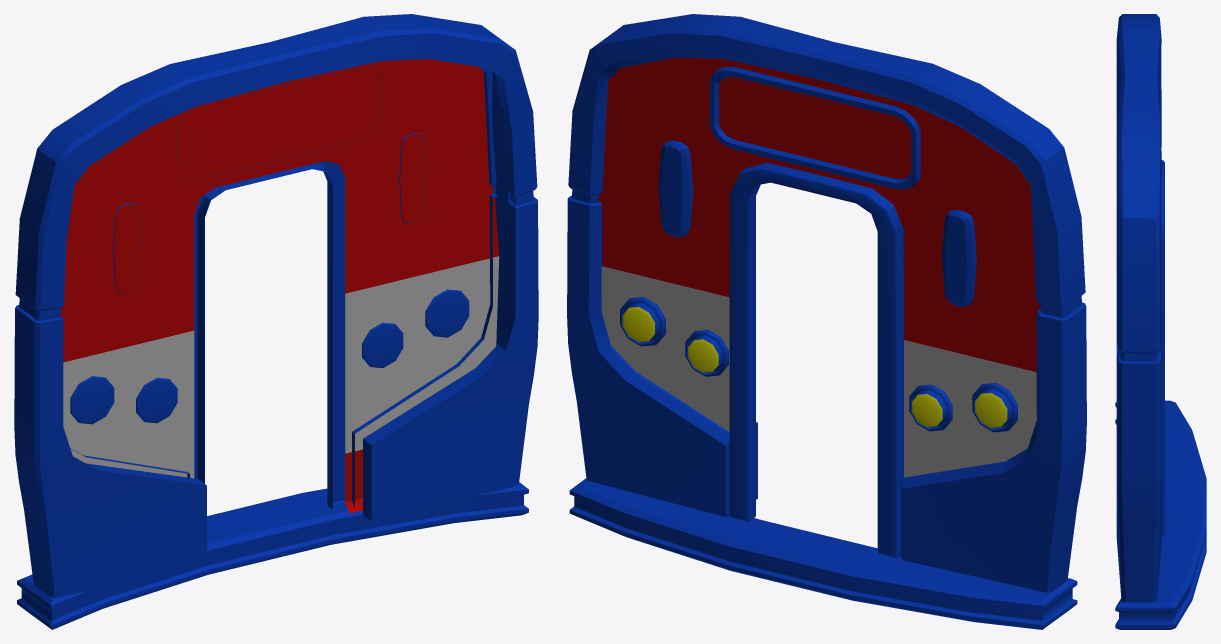
Rendered from Asset_metro_devant.fbx.
3 views of the same model, side by side, from view 1: azimuth 30°, elevation 25°; view 2: azimuth 150°, elevation 25°; view 3: azimuth 270°, elevation 25° (orthographic). The views are drawn at different scales.
Parts seen in each view (by area): view 1: Asset_devant; view 2: Asset_devant; view 3: Asset_devant.
Part boxes in pixels (left/top/right/bottom): Asset_devant: left=14, top=14, right=538, bottom=629; Asset_devant: left=567, top=14, right=1086, bottom=629; Asset_devant: left=1115, top=14, right=1206, bottom=629.
Size of the model in its own units: 4.23 by 4.14 by 0.752.
